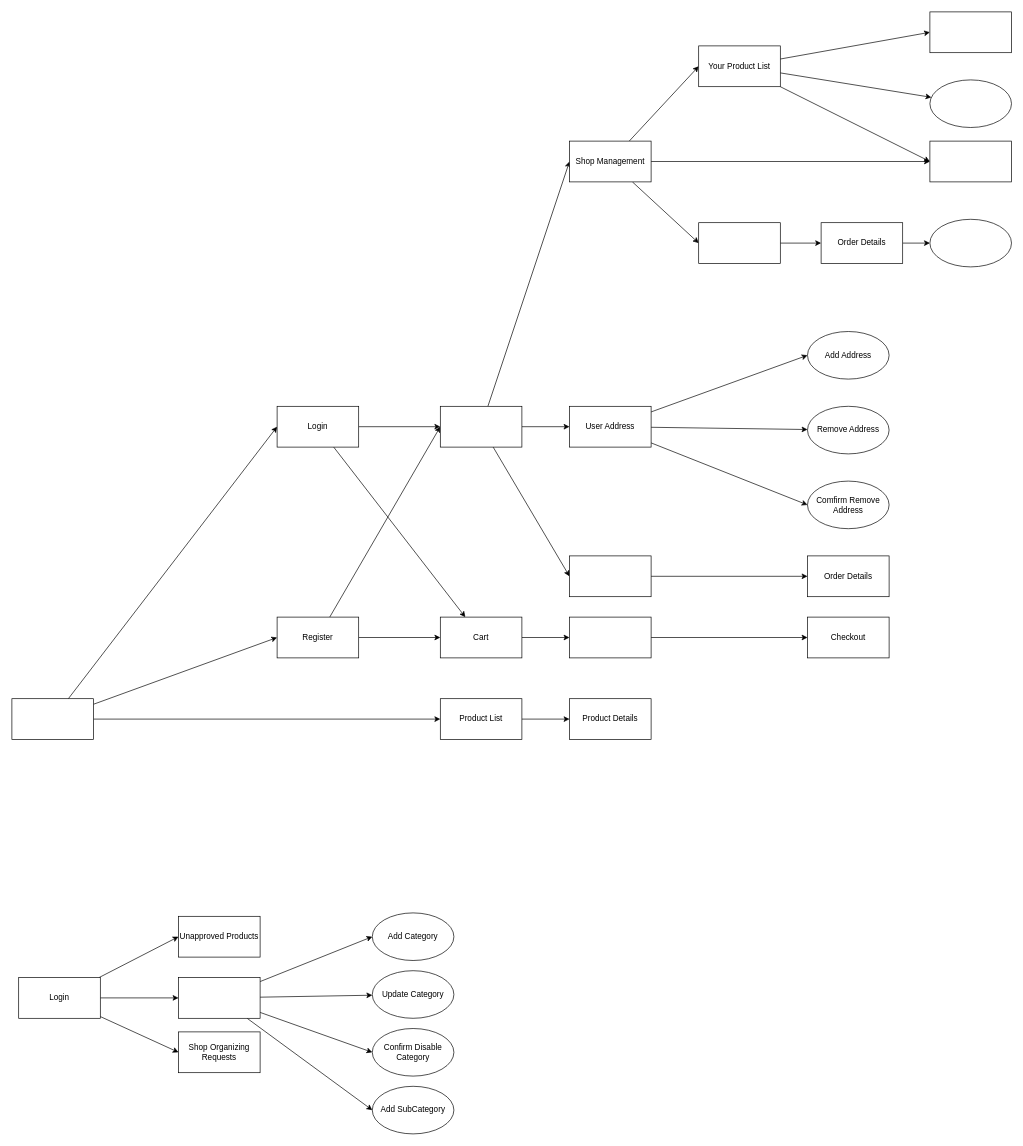
This 1023x1146 diagram has some shape labels left out. The centre of each missing label's shape, as x and y in pixels:
"Accept/Reject Orders" belongs at (970,243).
"Add Product Information" belongs at (970,161).
"Category Lists" belongs at (219,997).
"Change/ view user information" belongs at (481,426).
"Comfirm Remove Product" belongs at (970,103).
"Edit Product Information" belongs at (970,32).
"Home Page" belongs at (52,719).
"Order Info" belongs at (610,637).
"Purchase History" belongs at (610,576).
"Your Order List" belongs at (739,243).
